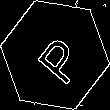P_NW: (25, 24, 85, 86)
